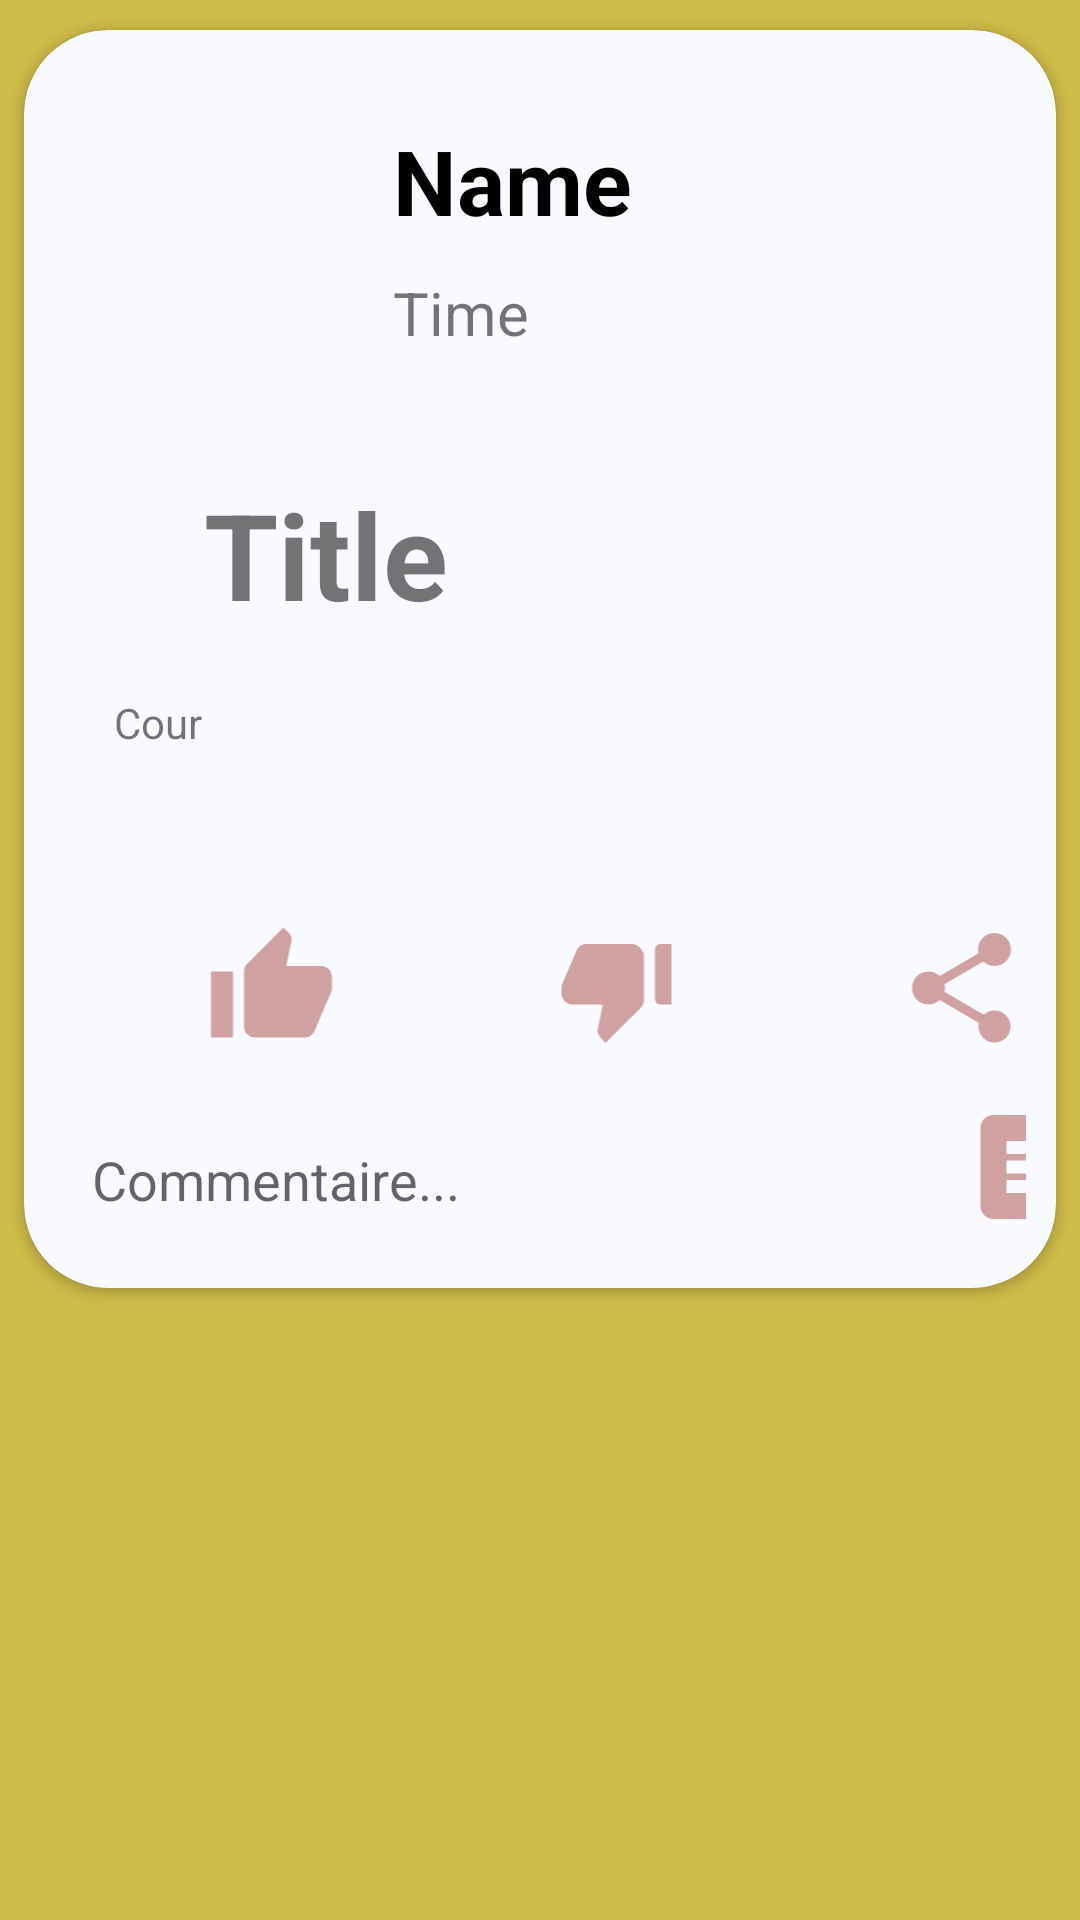

Where to tap for icons on this 1080 x 1920 app screen, as (x,y):
dislike: (616,993)
like: (271,983)
